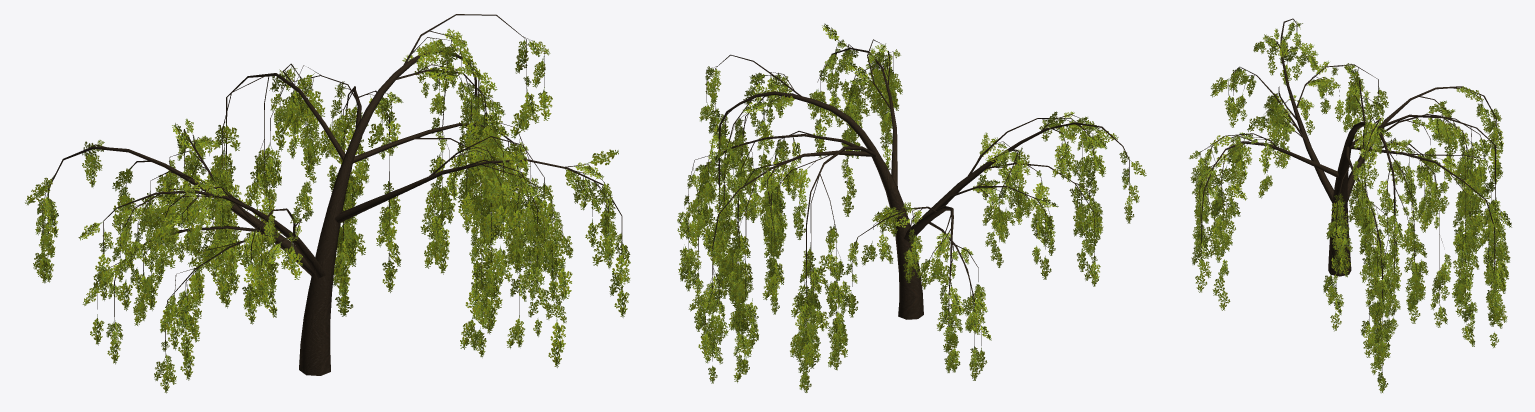
Rendered from liu.glb.
3 renders of one model, left to right at view 1: azimuth 30°, elevation 25°; view 2: azimuth 150°, elevation 25°; view 3: azimuth 270°, elevation 25°, orthographic. The views are drawn at different scales.
Parts seen in each view (by area): view 1: leaves, bark; view 2: leaves, bark; view 3: leaves, bark.
Boxes of the visible parts, left/top/right/bottom form: leaves: left=25, top=28, right=630, bottom=393; bark: left=42, top=14, right=622, bottom=375; leaves: left=677, top=23, right=1146, bottom=392; bark: left=688, top=39, right=1129, bottom=361; leaves: left=1189, top=21, right=1511, bottom=393; bark: left=1199, top=18, right=1500, bottom=372.
Size of what is drawn, in the model's own units: 15.9 by 10 by 12.09.
2 materials, 2 textured.
